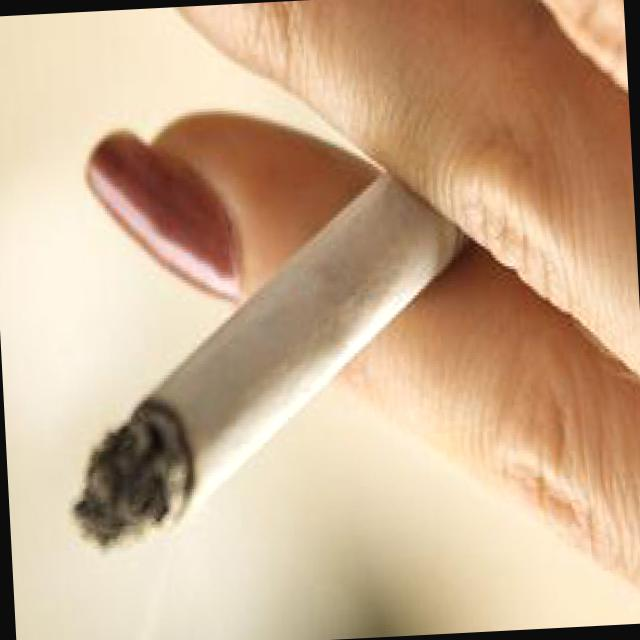cigarette: (60, 196, 408, 562)
